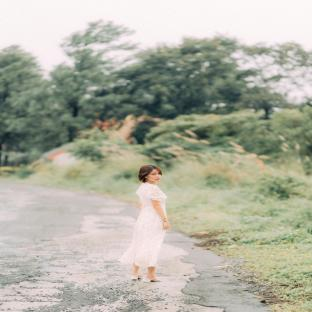Human: (119, 165, 170, 282)
